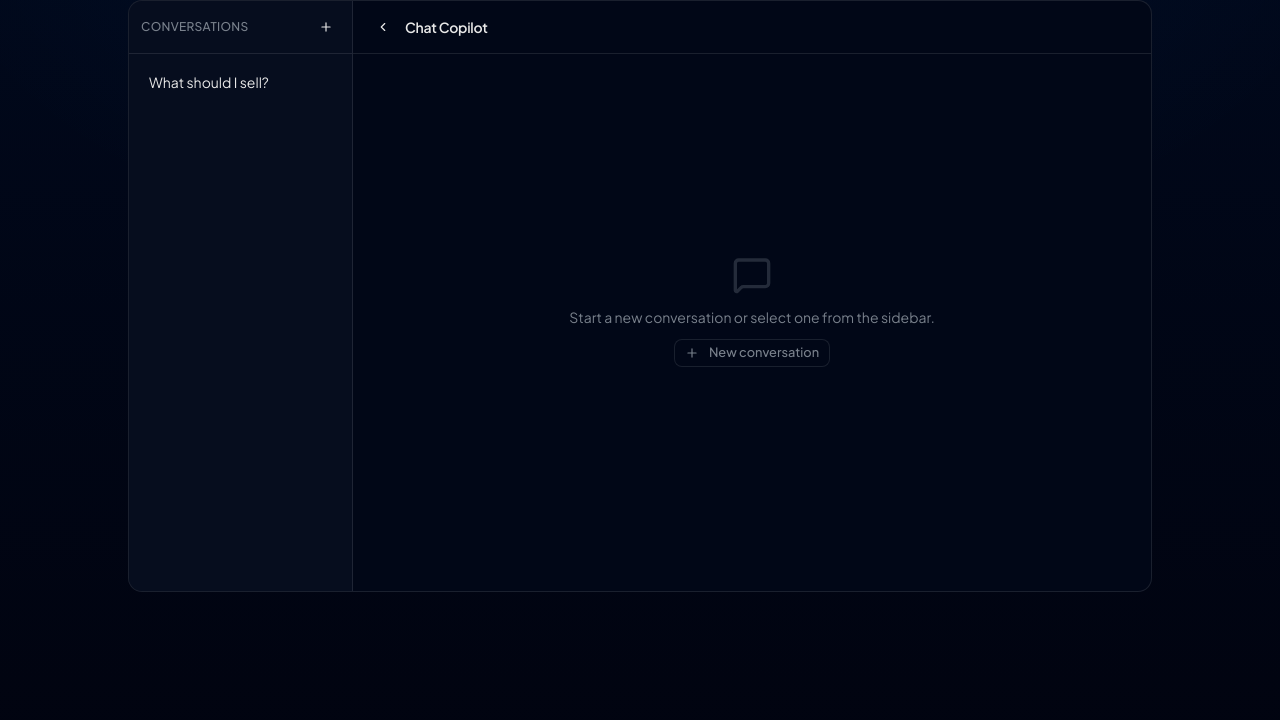
ChatPage — message display › renders user and assistant messages after selecting a session
(page scrolled)
Click the button with test id "session-item": [240, 82] box [137,62,344,102]
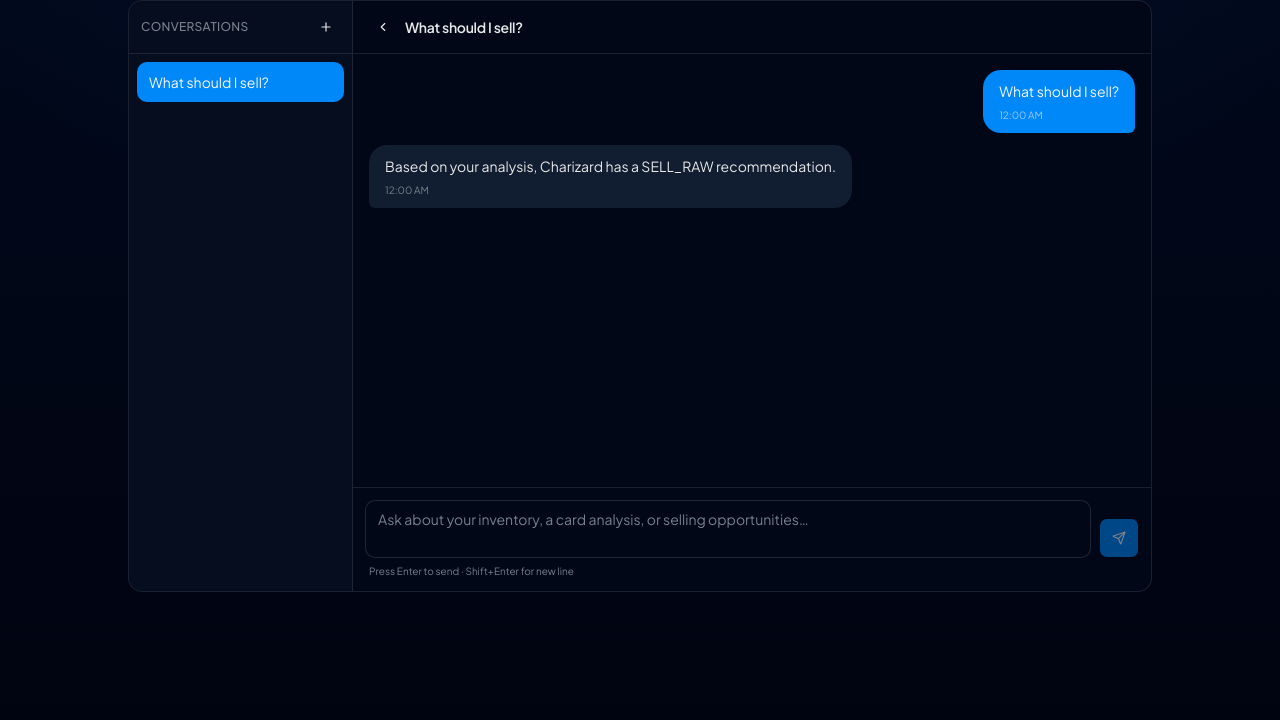
Now the number of elements with test id "message-user" is 1, box [983,70,1135,133]
Now the number of elements with test id "message-assistant" is 1, box [369,145,852,208]
Now the element with test id "message-user" shows "What should I sell?", box [999,82,1119,100]
